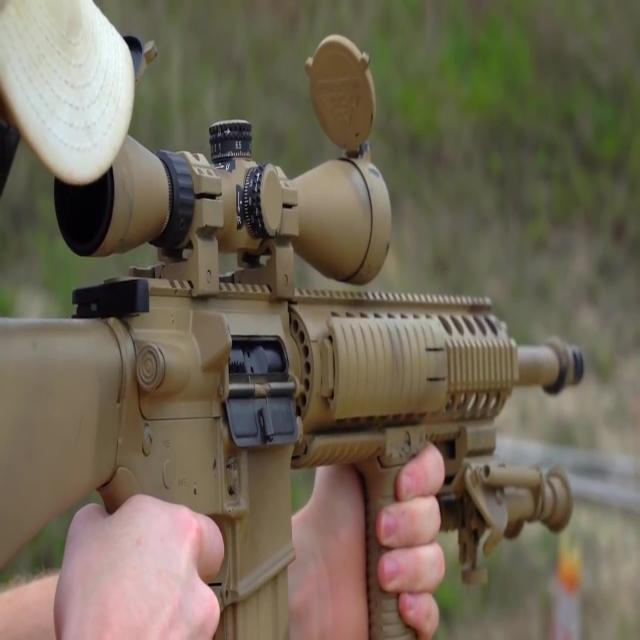Weapon: (10, 21, 592, 640)
